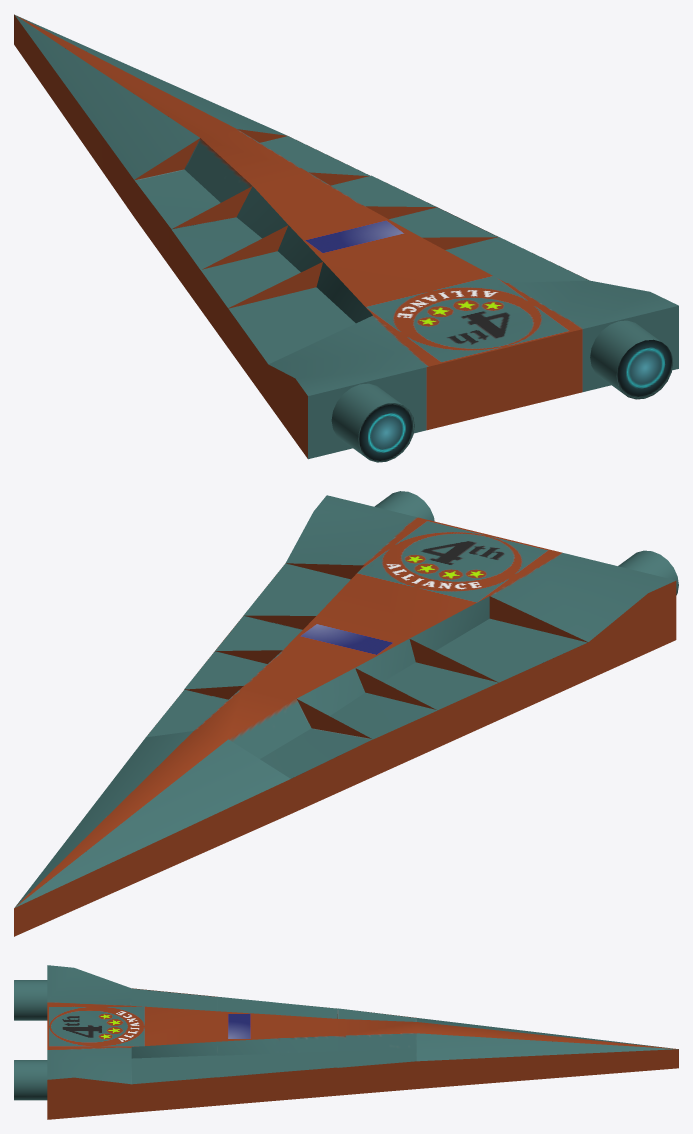
Rendered from AllyCapital.obj.
3 renders of one model, top to bottom at view 1: azimuth 30°, elevation 25°; view 2: azimuth 150°, elevation 25°; view 3: azimuth 270°, elevation 25°, orthographic. The views are drawn at different scales.
Parts seen in each view (by area): view 1: AllyCapital:polySurface6; view 2: AllyCapital:polySurface6; view 3: AllyCapital:polySurface6.
Part boxes in pixels (x1,y1,x2,y2): AllyCapital:polySurface6: (14, 14, 678, 462); AllyCapital:polySurface6: (14, 491, 678, 936); AllyCapital:polySurface6: (14, 965, 678, 1119).
Size of the model in its own units: 25.91 by 5.12 by 63.48.
1 material, 1 textured.
